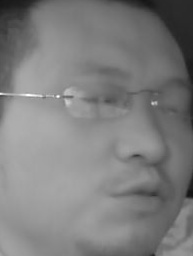glass: (63, 81, 131, 121)
mouth: (115, 179, 177, 214)
